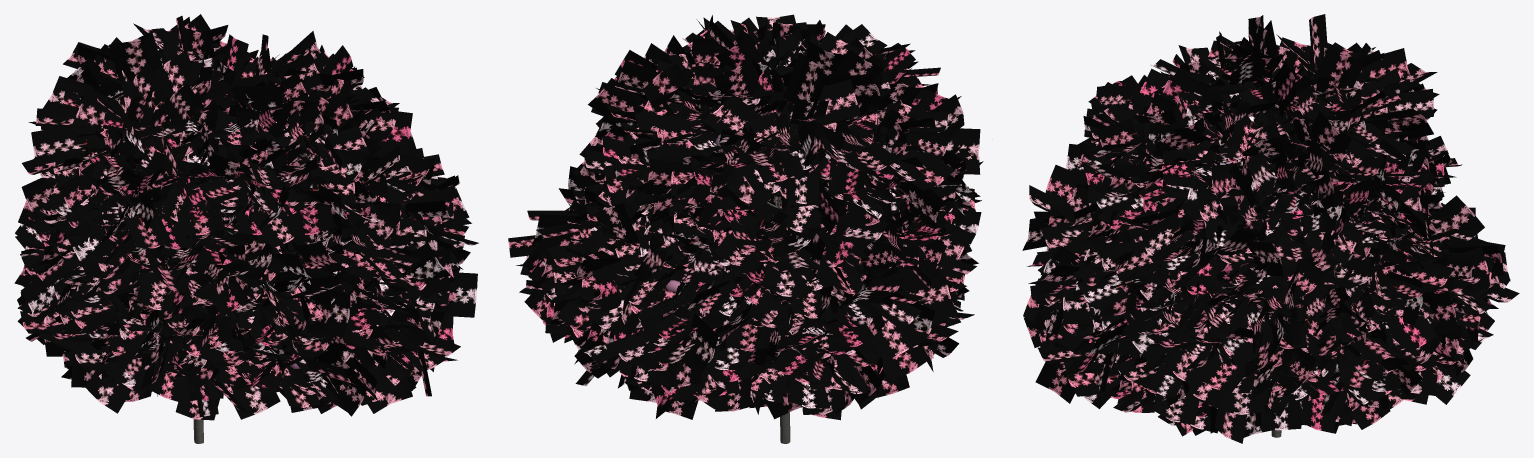
File: tree_12_red_maple.glb
The picture shows the model from 3 angles, left to right: view 1: azimuth 30°, elevation 25°; view 2: azimuth 150°, elevation 25°; view 3: azimuth 270°, elevation 25°; orthographic projection. The views are drawn at different scales.
Parts seen in each view (by area): view 1: tree_12_red_maple.leaves; view 2: tree_12_red_maple.leaves; view 3: tree_12_red_maple.leaves.
Boxes of the visible parts, x1,y1,x2,y2 form: tree_12_red_maple.leaves: [14, 14, 478, 420]; tree_12_red_maple.leaves: [508, 14, 983, 420]; tree_12_red_maple.leaves: [1022, 14, 1519, 443].
Bounding box in the file's own units: 8.73 × 8.41 × 9.47.
3 materials, 2 textured.
